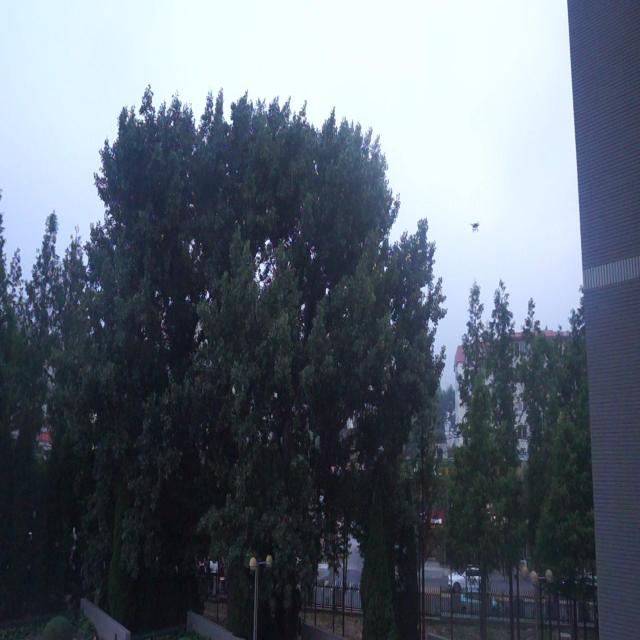drone: (469, 218, 483, 236)
